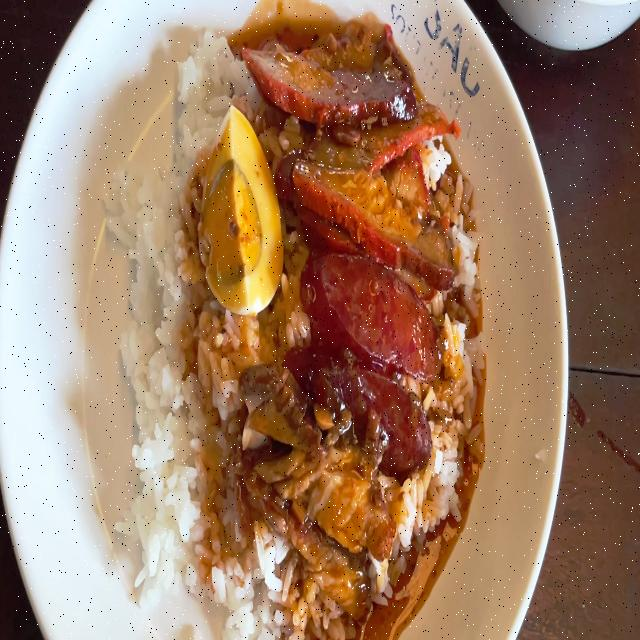boiled_egg: (215, 127, 270, 305)
chainese_sausage: (302, 272, 423, 444)
crispy_pork: (269, 445, 370, 567), (239, 381, 311, 466)
red_pork: (292, 136, 451, 256), (263, 48, 393, 165)
red_pork_and_crispy_pork: (140, 46, 447, 598)
rice: (128, 62, 186, 559), (176, 304, 226, 610)
